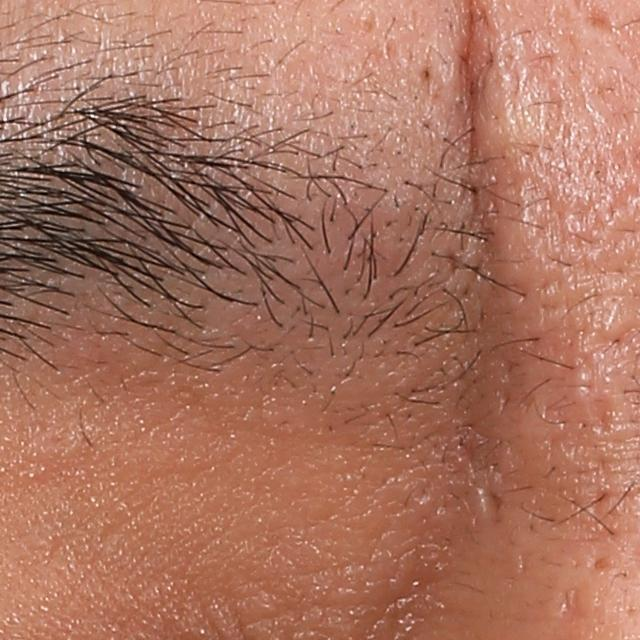atrophic_scar: (557, 586, 592, 632), (581, 7, 617, 33), (483, 481, 505, 517)
